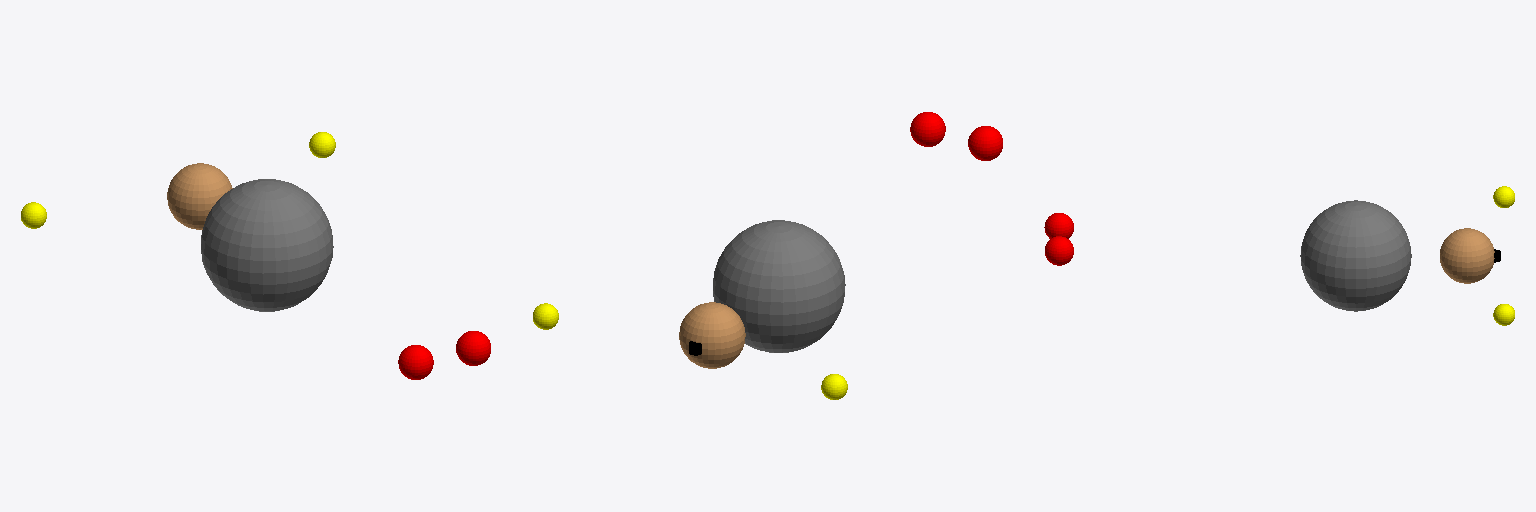
robot.urdf — humanoid_robot:
<?xml version="1.0" ?>
<robot name="humanoid_robot">
  <!-- Base Link -->
  <link name="base_link">
    <visual>
      <geometry>
        <sphere radius="0.3"/>
      </geometry>
      <material name="gray">
        <color rgba="0.5 0.5 0.5 1.0"/>
      </material>
    </visual>
    <collision>
      <geometry>
        <sphere radius="0.3"/>
      </geometry>
    </collision>
    <inertial>
      <mass value="10.0"/>
      <inertia ixx="0.18" ixy="0.0" ixz="0.0" iyy="0.18" iyz="0.0" izz="0.18"/>
    </inertial>
  </link>

  <!-- Head -->
  <link name="head">
    <visual>
      <geometry>
        <sphere radius="0.15"/>
      </geometry>
      <material name="skin">
        <color rgba="0.8 0.6 0.4 1.0"/>
      </material>
    </visual>
    <collision>
      <geometry>
        <sphere radius="0.15"/>
      </geometry>
    </collision>
    <inertial>
      <mass value="2.0"/>
      <inertia ixx="0.0225" ixy="0.0" ixz="0.0" iyy="0.0225" iyz="0.0" izz="0.0225"/>
    </inertial>
  </link>

  <joint name="head_joint" type="fixed">
    <parent link="base_link"/>
    <child link="head"/>
    <origin xyz="0 0.6 0"/>
  </joint>

  <!-- Left Leg -->
  <link name="left_hip">
    <visual>
      <geometry>
        <capsule radius="0.08" length="0.6"/>
      </geometry>
      <material name="blue">
        <color rgba="0.0 0.0 1.0 1.0"/>
      </material>
    </visual>
    <collision>
      <geometry>
        <capsule radius="0.08" length="0.6"/>
      </geometry>
    </collision>
    <inertial>
      <mass value="3.0"/>
      <inertia ixx="0.1125" ixy="0.0" ixz="0.0" iyy="0.1125" iyz="0.0" izz="0.0096"/>
    </inertial>
  </link>

  <joint name="left_hip_joint" type="revolute">
    <parent link="base_link"/>
    <child link="left_hip"/>
    <origin xyz="-0.15 -0.4 0"/>
    <axis xyz="0 1 0"/>
    <limit lower="-1.57" upper="1.57" effort="100" velocity="1.0"/>
  </joint>

  <link name="left_knee">
    <visual>
      <geometry>
        <capsule radius="0.07" length="0.6"/>
      </geometry>
      <material name="blue">
        <color rgba="0.0 0.0 1.0 1.0"/>
      </material>
    </visual>
    <collision>
      <geometry>
        <capsule radius="0.07" length="0.6"/>
      </geometry>
    </collision>
    <inertial>
      <mass value="2.5"/>
      <inertia ixx="0.09375" ixy="0.0" ixz="0.0" iyy="0.09375" iyz="0.0" izz="0.008125"/>
    </inertial>
  </link>

  <joint name="left_knee_joint" type="revolute">
    <parent link="left_hip"/>
    <child link="left_knee"/>
    <origin xyz="0 -0.6 0"/>
    <axis xyz="0 1 0"/>
    <limit lower="0" upper="1.57" effort="100" velocity="1.0"/>
  </joint>

  <link name="left_ankle">
    <visual>
      <geometry>
        <sphere radius="0.08"/>
      </geometry>
      <material name="red">
        <color rgba="1.0 0.0 0.0 1.0"/>
      </material>
    </visual>
    <collision>
      <geometry>
        <sphere radius="0.08"/>
      </geometry>
    </collision>
    <inertial>
      <mass value="1.0"/>
      <inertia ixx="0.002133333" ixy="0.0" ixz="0.0" iyy="0.002133333" iyz="0.0" izz="0.002133333"/>
    </inertial>
  </link>

  <joint name="left_ankle_joint" type="revolute">
    <parent link="left_knee"/>
    <child link="left_ankle"/>
    <origin xyz="0 -0.6 0.1"/>
    <axis xyz="0 1 0"/>
    <limit lower="-0.5" upper="0.5" effort="100" velocity="1.0"/>
  </joint>

  <!-- Right Leg -->
  <link name="right_hip">
    <visual>
      <geometry>
        <capsule radius="0.08" length="0.6"/>
      </geometry>
      <material name="blue">
        <color rgba="0.0 0.0 1.0 1.0"/>
      </material>
    </visual>
    <collision>
      <geometry>
        <capsule radius="0.08" length="0.6"/>
      </geometry>
    </collision>
    <inertial>
      <mass value="3.0"/>
      <inertia ixx="0.1125" ixy="0.0" ixz="0.0" iyy="0.1125" iyz="0.0" izz="0.0096"/>
    </inertial>
  </link>

  <joint name="right_hip_joint" type="revolute">
    <parent link="base_link"/>
    <child link="right_hip"/>
    <origin xyz="0.15 -0.4 0"/>
    <axis xyz="0 1 0"/>
    <limit lower="-1.57" upper="1.57" effort="100" velocity="1.0"/>
  </joint>

  <link name="right_knee">
    <visual>
      <geometry>
        <capsule radius="0.07" length="0.6"/>
      </geometry>
      <material name="blue">
        <color rgba="0.0 0.0 1.0 1.0"/>
      </material>
    </visual>
    <collision>
      <geometry>
        <capsule radius="0.07" length="0.6"/>
      </geometry>
    </collision>
    <inertial>
      <mass value="2.5"/>
      <inertia ixx="0.09375" ixy="0.0" ixz="0.0" iyy="0.09375" iyz="0.0" izz="0.008125"/>
    </inertial>
  </link>

  <joint name="right_knee_joint" type="revolute">
    <parent link="right_hip"/>
    <child link="right_knee"/>
    <origin xyz="0 -0.6 0"/>
    <axis xyz="0 1 0"/>
    <limit lower="0" upper="1.57" effort="100" velocity="1.0"/>
  </joint>

  <link name="right_ankle">
    <visual>
      <geometry>
        <sphere radius="0.08"/>
      </geometry>
      <material name="red">
        <color rgba="1.0 0.0 0.0 1.0"/>
      </material>
    </visual>
    <collision>
      <geometry>
        <sphere radius="0.08"/>
      </geometry>
    </collision>
    <inertial>
      <mass value="1.0"/>
      <inertia ixx="0.002133333" ixy="0.0" ixz="0.0" iyy="0.002133333" iyz="0.0" izz="0.002133333"/>
    </inertial>
  </link>

  <joint name="right_ankle_joint" type="revolute">
    <parent link="right_knee"/>
    <child link="right_ankle"/>
    <origin xyz="0 -0.6 0.1"/>
    <axis xyz="0 1 0"/>
    <limit lower="-0.5" upper="0.5" effort="100" velocity="1.0"/>
  </joint>

  <!-- Left Arm -->
  <link name="left_shoulder">
    <visual>
      <geometry>
        <capsule radius="0.06" length="0.4"/>
      </geometry>
      <material name="green">
        <color rgba="0.0 1.0 0.0 1.0"/>
      </material>
    </visual>
    <collision>
      <geometry>
        <capsule radius="0.06" length="0.4"/>
      </geometry>
    </collision>
    <inertial>
      <mass value="1.5"/>
      <inertia ixx="0.04" ixy="0.0" ixz="0.0" iyy="0.04" iyz="0.0" izz="0.0027"/>
    </inertial>
  </link>

  <joint name="left_shoulder_joint" type="revolute">
    <parent link="base_link"/>
    <child link="left_shoulder"/>
    <origin xyz="-0.35 0.8 0"/>
    <axis xyz="1 0 0"/>
    <limit lower="-1.57" upper="1.57" effort="50" velocity="1.0"/>
  </joint>

  <link name="left_elbow">
    <visual>
      <geometry>
        <capsule radius="0.05" length="0.4"/>
      </geometry>
      <material name="green">
        <color rgba="0.0 1.0 0.0 1.0"/>
      </material>
    </visual>
    <collision>
      <geometry>
        <capsule radius="0.05" length="0.4"/>
      </geometry>
    </collision>
    <inertial>
      <mass value="1.0"/>
      <inertia ixx="0.026666667" ixy="0.0" ixz="0.0" iyy="0.026666667" iyz="0.0" izz="0.002083333"/>
    </inertial>
  </link>

  <joint name="left_elbow_joint" type="revolute">
    <parent link="left_shoulder"/>
    <child link="left_elbow"/>
    <origin xyz="-0.2 0 0"/>
    <axis xyz="1 0 0"/>
    <limit lower="-1.57" upper="1.57" effort="50" velocity="1.0"/>
  </joint>

  <link name="left_hand">
    <visual>
      <geometry>
        <sphere radius="0.06"/>
      </geometry>
      <material name="yellow">
        <color rgba="1.0 1.0 0.0 1.0"/>
      </material>
    </visual>
    <collision>
      <geometry>
        <sphere radius="0.06"/>
      </geometry>
    </collision>
    <inertial>
      <mass value="0.5"/>
      <inertia ixx="0.00072" ixy="0.0" ixz="0.0" iyy="0.00072" iyz="0.0" izz="0.00072"/>
    </inertial>
  </link>

  <joint name="left_hand_joint" type="revolute">
    <parent link="left_elbow"/>
    <child link="left_hand"/>
    <origin xyz="-0.2 0 0"/>
    <axis xyz="1 0 0"/>
    <limit lower="-1.57" upper="1.57" effort="50" velocity="1.0"/>
  </joint>

  <!-- Right Arm -->
  <link name="right_shoulder">
    <visual>
      <geometry>
        <capsule radius="0.06" length="0.4"/>
      </geometry>
      <material name="green">
        <color rgba="0.0 1.0 0.0 1.0"/>
      </material>
    </visual>
    <collision>
      <geometry>
        <capsule radius="0.06" length="0.4"/>
      </geometry>
    </collision>
    <inertial>
      <mass value="1.5"/>
      <inertia ixx="0.04" ixy="0.0" ixz="0.0" iyy="0.04" iyz="0.0" izz="0.0027"/>
    </inertial>
  </link>

  <joint name="right_shoulder_joint" type="revolute">
    <parent link="base_link"/>
    <child link="right_shoulder"/>
    <origin xyz="0.35 0.8 0"/>
    <axis xyz="1 0 0"/>
    <limit lower="-1.57" upper="1.57" effort="50" velocity="1.0"/>
  </joint>

  <link name="right_elbow">
    <visual>
      <geometry>
        <capsule radius="0.05" length="0.4"/>
      </geometry>
      <material name="green">
        <color rgba="0.0 1.0 0.0 1.0"/>
      </material>
    </visual>
    <collision>
      <geometry>
        <capsule radius="0.05" length="0.4"/>
      </geometry>
    </collision>
    <inertial>
      <mass value="1.0"/>
      <inertia ixx="0.026666667" ixy="0.0" ixz="0.0" iyy="0.026666667" iyz="0.0" izz="0.002083333"/>
    </inertial>
  </link>

  <joint name="right_elbow_joint" type="revolute">
    <parent link="right_shoulder"/>
    <child link="right_elbow"/>
    <origin xyz="0.2 0 0"/>
    <axis xyz="1 0 0"/>
    <limit lower="-1.57" upper="1.57" effort="50" velocity="1.0"/>
  </joint>

  <link name="right_hand">
    <visual>
      <geometry>
        <sphere radius="0.06"/>
      </geometry>
      <material name="yellow">
        <color rgba="1.0 1.0 0.0 1.0"/>
      </material>
    </visual>
    <collision>
      <geometry>
        <sphere radius="0.06"/>
      </geometry>
    </collision>
    <inertial>
      <mass value="0.5"/>
      <inertia ixx="0.00072" ixy="0.0" ixz="0.0" iyy="0.00072" iyz="0.0" izz="0.00072"/>
    </inertial>
  </link>

  <joint name="right_hand_joint" type="revolute">
    <parent link="right_elbow"/>
    <child link="right_hand"/>
    <origin xyz="0.2 0 0"/>
    <axis xyz="1 0 0"/>
    <limit lower="-1.57" upper="1.57" effort="50" velocity="1.0"/>
  </joint>

  <!-- Sensors -->
  <!-- IMU Sensor -->
  <link name="imu_link">
    <visual>
      <geometry>
        <box size="0.02 0.02 0.02"/>
      </geometry>
      <material name="black">
        <color rgba="0.0 0.0 0.0 1.0"/>
      </material>
    </visual>
  </link>

  <joint name="imu_joint" type="fixed">
    <parent link="base_link"/>
    <child link="imu_link"/>
    <origin xyz="0 0.1 0"/>
  </joint>

  <!-- Camera Sensor -->
  <link name="camera_link">
    <visual>
      <geometry>
        <box size="0.05 0.05 0.05"/>
      </geometry>
      <material name="black">
        <color rgba="0.0 0.0 0.0 1.0"/>
      </material>
    </visual>
  </link>

  <joint name="camera_joint" type="fixed">
    <parent link="head"/>
    <child link="camera_link"/>
    <origin xyz="0 0.1 0.05"/>
  </joint>

  <!-- LiDAR Sensor (if applicable) -->
  <link name="lidar_link">
    <visual>
      <geometry>
        <cylinder radius="0.03" length="0.05"/>
      </geometry>
      <material name="black">
        <color rgba="0.0 0.0 0.0 1.0"/>
      </material>
    </visual>
  </link>

  <joint name="lidar_joint" type="fixed">
    <parent link="head"/>
    <child link="lidar_link"/>
    <origin xyz="0 0.15 0"/>
  </joint>
</robot>

--- Facts derived from the render (not from the file) ---
Views: 3 orthographic renders of the robot side by side, from view 1: azimuth 30°, elevation 25°; view 2: azimuth 150°, elevation 25°; view 3: azimuth 270°, elevation 25°.
Model humanoid_robot with 17 links and 16 joints (12 revolute, 4 fixed), rooted at base_link, posed every joint at zero.
Visible links, largest first — view 1: base_link, head, left_ankle, right_ankle, right_hand, left_hand; view 2: base_link, head, right_ankle, left_ankle, left_hand, right_hand; view 3: base_link, head, right_ankle, left_ankle.
Link boxes in pixels (x1=…): base_link: x1=201, y1=179, x2=333, y2=311; head: x1=167, y1=163, x2=232, y2=229; left_ankle: x1=398, y1=345, x2=433, y2=379; right_ankle: x1=456, y1=331, x2=490, y2=365; right_hand: x1=309, y1=132, x2=335, y2=157; left_hand: x1=21, y1=202, x2=46, y2=228; base_link: x1=713, y1=220, x2=845, y2=352; head: x1=679, y1=302, x2=745, y2=368; right_ankle: x1=910, y1=112, x2=945, y2=146; left_ankle: x1=968, y1=126, x2=1002, y2=160; left_hand: x1=821, y1=374, x2=847, y2=399; right_hand: x1=533, y1=303, x2=558, y2=329; base_link: x1=1300, y1=200, x2=1411, y2=311; head: x1=1440, y1=228, x2=1494, y2=283; right_ankle: x1=1045, y1=236, x2=1073, y2=265; left_ankle: x1=1044, y1=213, x2=1073, y2=238.
Size in the robot's own frame: 1.62 by 2.54 by 0.6 metres.
Geometry: primitives only (box / cylinder / sphere), no mesh files.